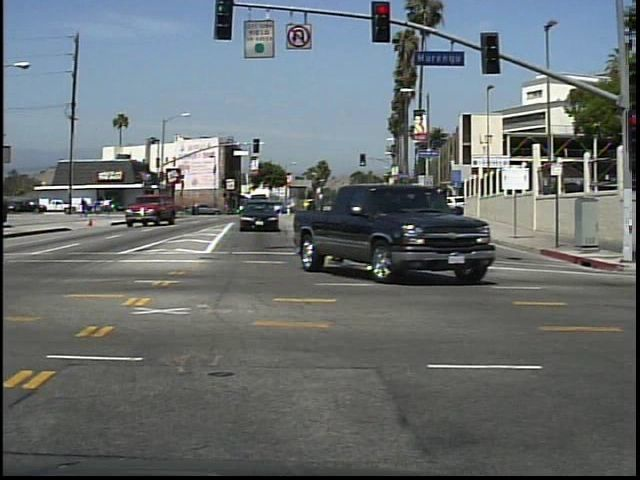person: (80, 193, 94, 219)
